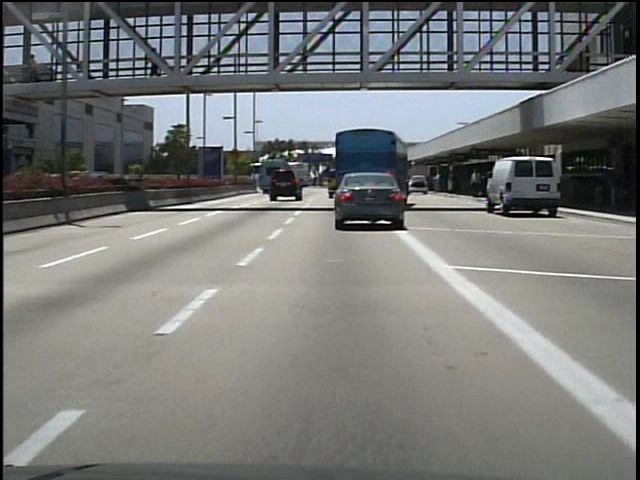person: (601, 166, 623, 212), (147, 44, 167, 88), (27, 51, 45, 84), (469, 165, 483, 200)
